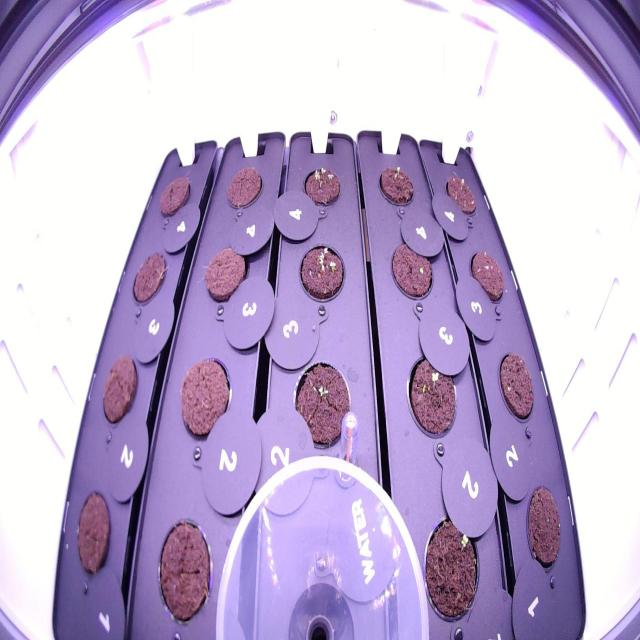germination: (414, 508, 484, 628), (286, 356, 356, 452), (403, 346, 461, 448), (294, 237, 349, 310), (296, 160, 344, 213), (372, 158, 417, 214), (442, 170, 481, 221)
pod: (154, 510, 214, 630), (176, 349, 236, 442), (521, 478, 567, 580), (72, 483, 114, 582), (97, 346, 142, 433), (386, 234, 436, 309), (494, 348, 538, 428), (200, 243, 252, 307), (465, 243, 509, 308), (128, 246, 170, 312), (223, 161, 266, 213), (153, 170, 194, 222)
